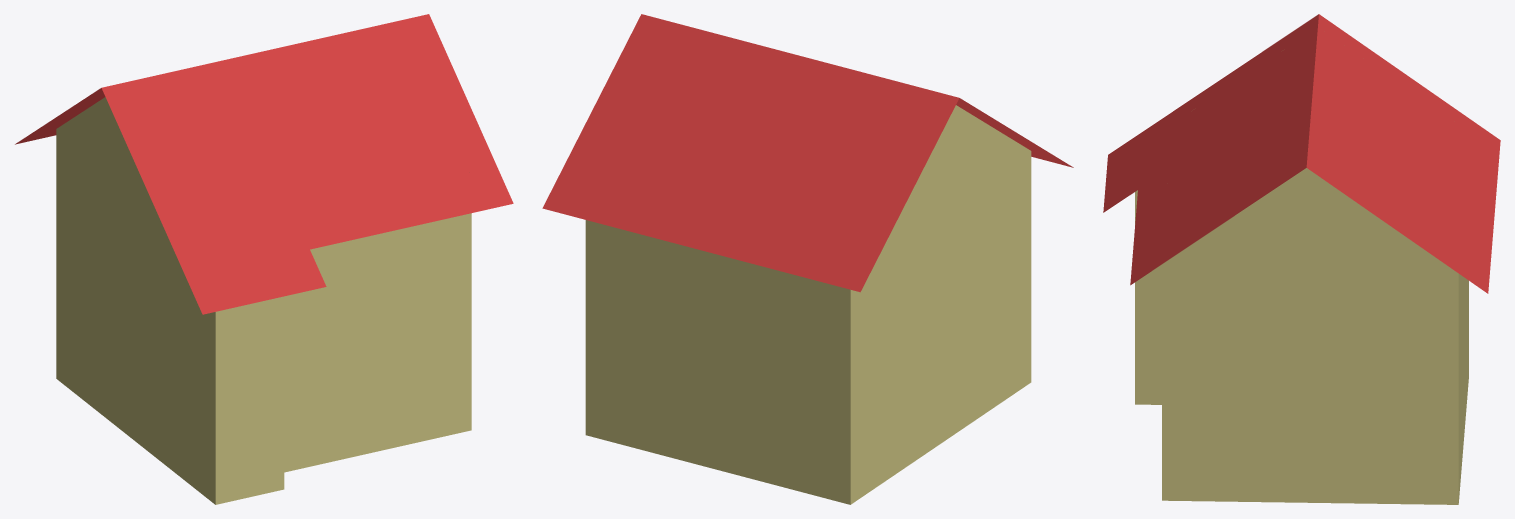
The picture shows the model from 3 angles, left to right: view 1: azimuth 30°, elevation 25°; view 2: azimuth 150°, elevation 25°; view 3: azimuth 270°, elevation 25°; orthographic projection. The views are drawn at different scales.
Visible parts, largest first — view 1: group_5, group_3, group_4; view 2: group_5, group_3, group_4; view 3: group_5, group_3, group_4.
Part boxes in pixels (x1=…): group_5: x1=56, y1=97, x2=471, y2=504; group_3: x1=15, y1=20, x2=471, y2=294; group_4: x1=19, y1=14, x2=513, y2=314; group_5: x1=585, y1=105, x2=1031, y2=504; group_3: x1=542, y1=14, x2=1073, y2=291; group_4: x1=743, y1=91, x2=959, y2=291; group_5: x1=1135, y1=168, x2=1468, y2=504; group_3: x1=1132, y1=14, x2=1500, y2=293; group_4: x1=1103, y1=14, x2=1500, y2=285.
Size of the model in its own units: 12.32 by 12.98 by 12.54.
